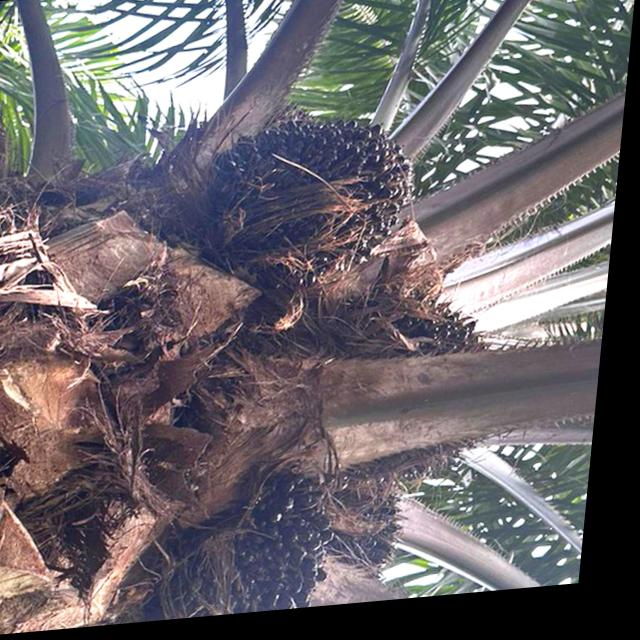almost: (207, 110, 432, 297), (161, 471, 362, 625)
